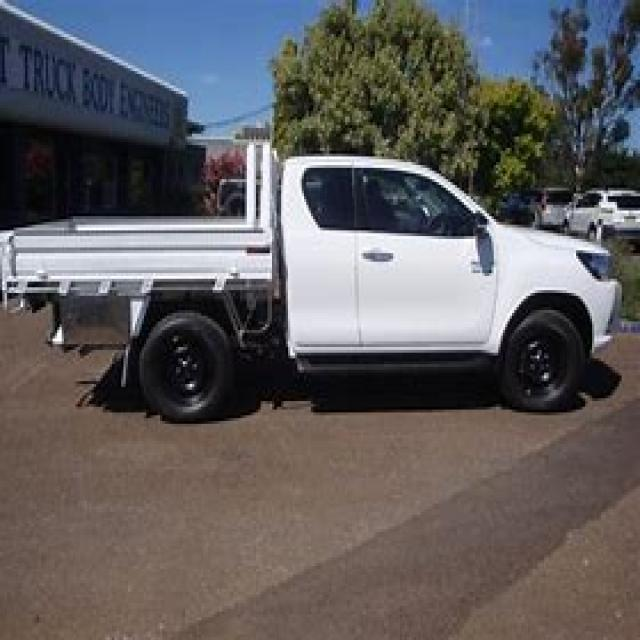light_vehicle: (18, 134, 629, 424)
